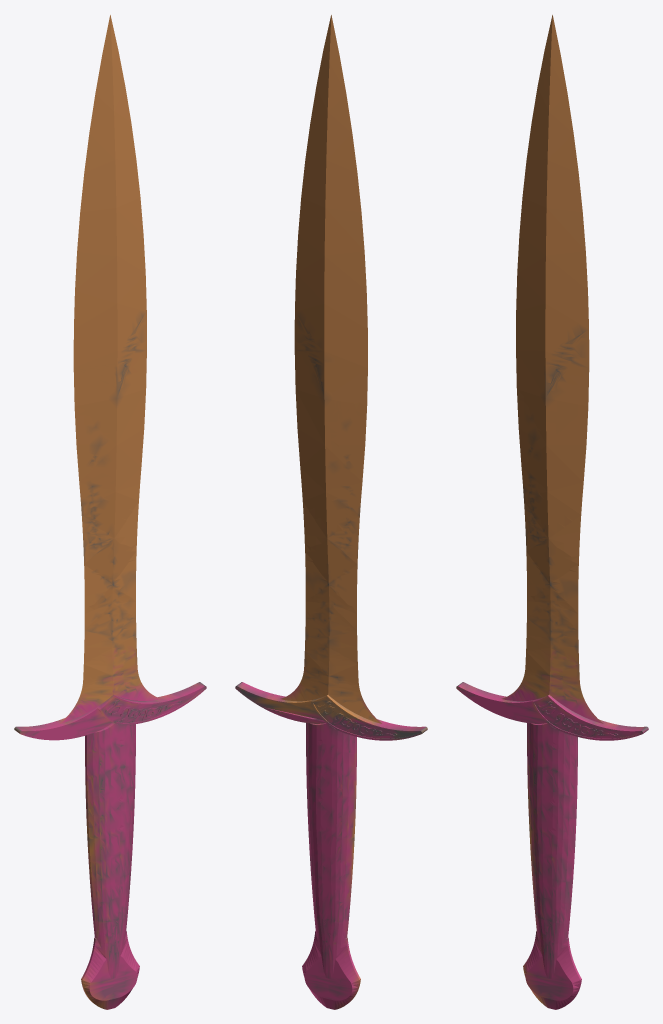
3 views of the same model, side by side, from view 1: azimuth 30°, elevation 25°; view 2: azimuth 150°, elevation 25°; view 3: azimuth 330°, elevation 25° (orthographic).
Visible parts, largest first — view 1: geometry_0.025; view 2: geometry_0.025; view 3: geometry_0.025.
Part boxes in pixels (x1,y1,x2,y2): geometry_0.025: [14, 15, 206, 1009]; geometry_0.025: [235, 15, 427, 1009]; geometry_0.025: [456, 15, 648, 1009].
Size of the model in its own units: 0.1663 by 0.846 by 0.0221.
